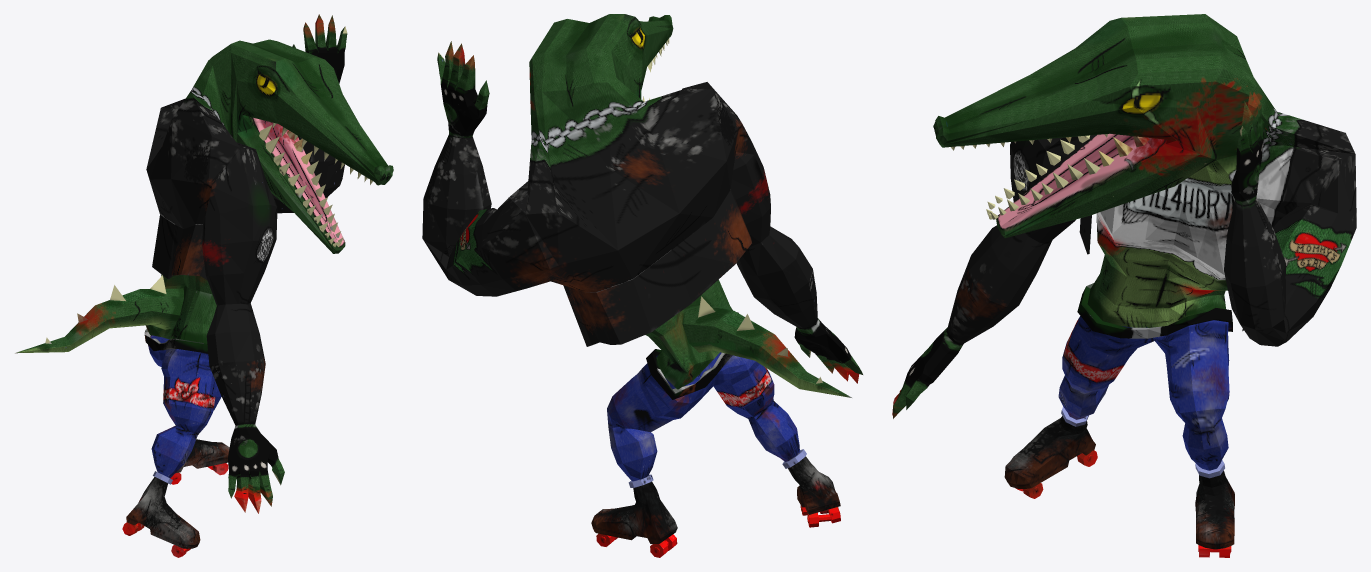
The model's file is cocodrilaBonesSelect_000068.obj.
3 renders of one model, left to right at view 1: azimuth 30°, elevation 25°; view 2: azimuth 150°, elevation 25°; view 3: azimuth 270°, elevation 25°, orthographic. The views are drawn at different scales.
Parts seen in each view (by area): view 1: Crocodile.002_Cylinder.002; view 2: Crocodile.002_Cylinder.002; view 3: Crocodile.002_Cylinder.002.
Part boxes in pixels (x1,y1,x2,y2): Crocodile.002_Cylinder.002: [15, 14, 393, 557]; Crocodile.002_Cylinder.002: [422, 14, 862, 557]; Crocodile.002_Cylinder.002: [892, 14, 1356, 557].
Bounding box in the file's own units: 5.23 × 6.17 × 4.66.
